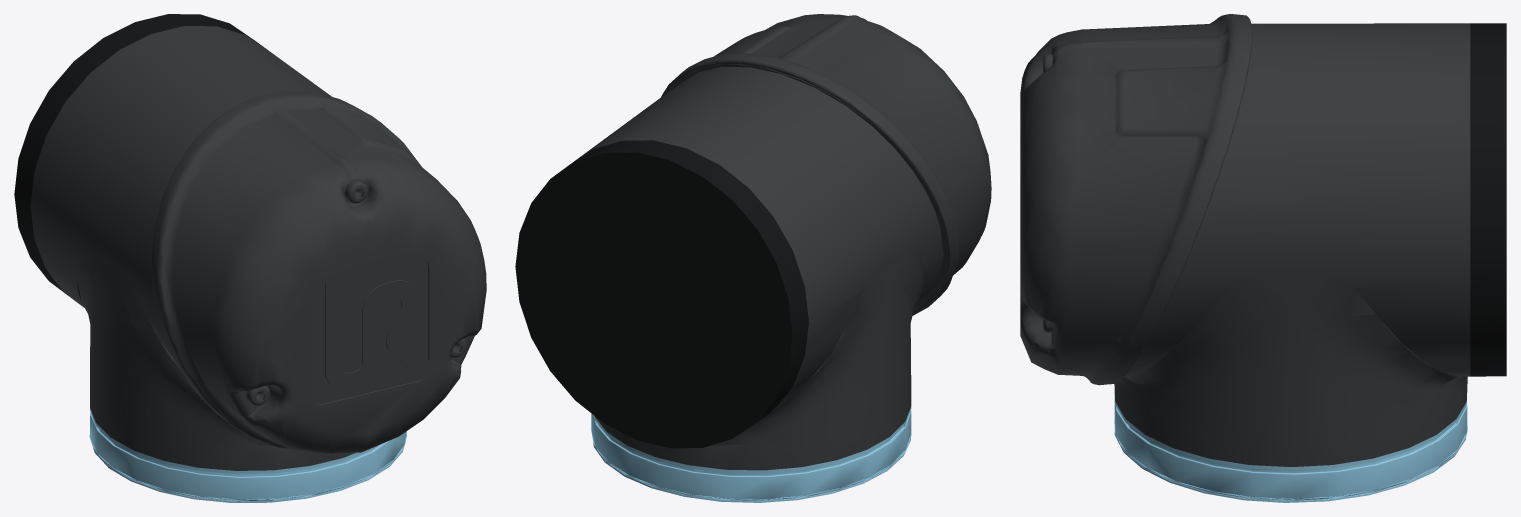
3 renders of one model, left to right at view 1: azimuth 30°, elevation 25°; view 2: azimuth 150°, elevation 25°; view 3: azimuth 270°, elevation 25°, orthographic. The views are drawn at different scales.
Visible parts, largest first — view 1: link; view 2: link; view 3: link.
Part boxes in pixels (x1,y1,x2,y2): link: (14,14,486,502); link: (515,14,991,502); link: (1020,14,1506,502).
Bounding box in the file's own units: 0.0787 × 0.103 × 0.0927.
